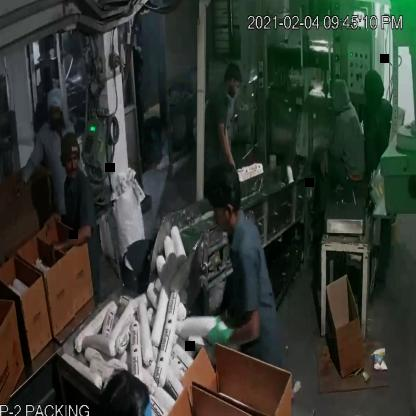glove: (200, 314, 237, 362)
no_glove: (43, 216, 94, 262), (212, 106, 235, 172), (316, 143, 336, 190), (42, 204, 66, 238), (8, 171, 28, 210)
